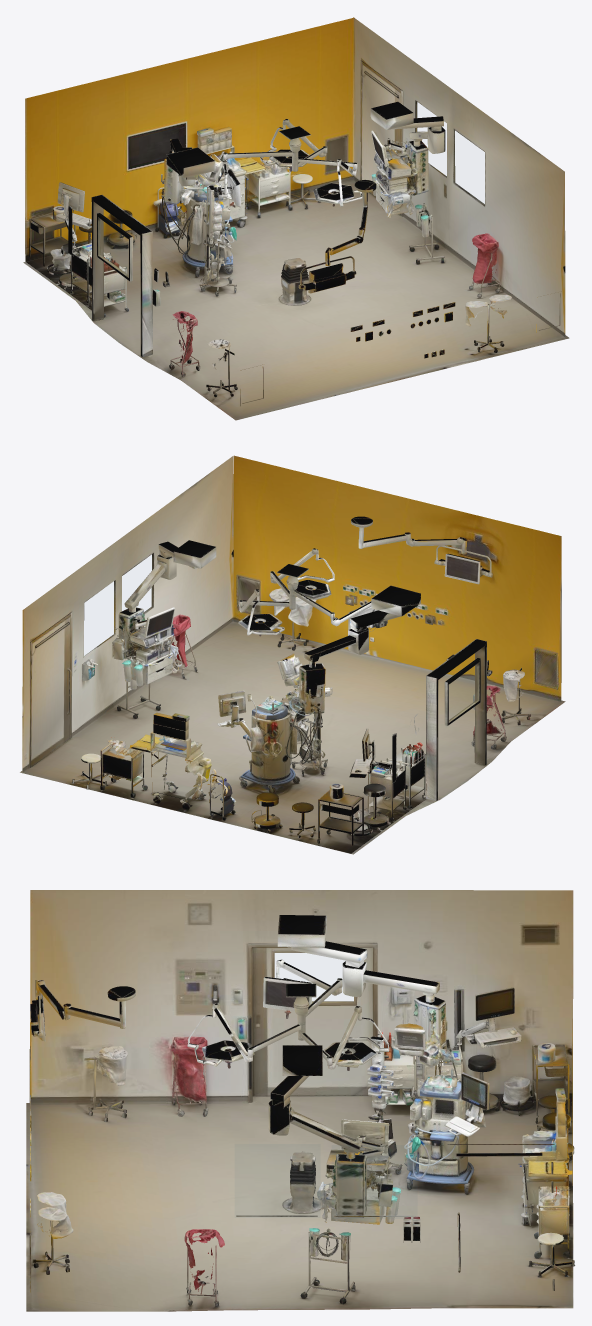
The model's file is SUP_charite_university_hospital___operating_room.glb.
The picture shows the model from 3 angles, top to bottom: view 1: azimuth 30°, elevation 25°; view 2: azimuth 150°, elevation 25°; view 3: azimuth 270°, elevation 25°; orthographic projection. The views are drawn at different scales.
Parts seen in each view (by area): view 1: SUP_charite_university_hospital___operating_room; view 2: SUP_charite_university_hospital___operating_room; view 3: SUP_charite_university_hospital___operating_room.
Boxes of the visible parts, box(x1,y1,x2,y2) form: SUP_charite_university_hospital___operating_room: box(23, 17, 569, 420); SUP_charite_university_hospital___operating_room: box(20, 455, 565, 854); SUP_charite_university_hospital___operating_room: box(26, 890, 575, 1311).
Size of the model in its own units: 5.99 by 2.78 by 6.53.
Materials: 5 (4 with a texture image).
